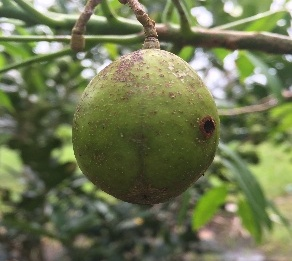Coc: (50, 55, 227, 212)
